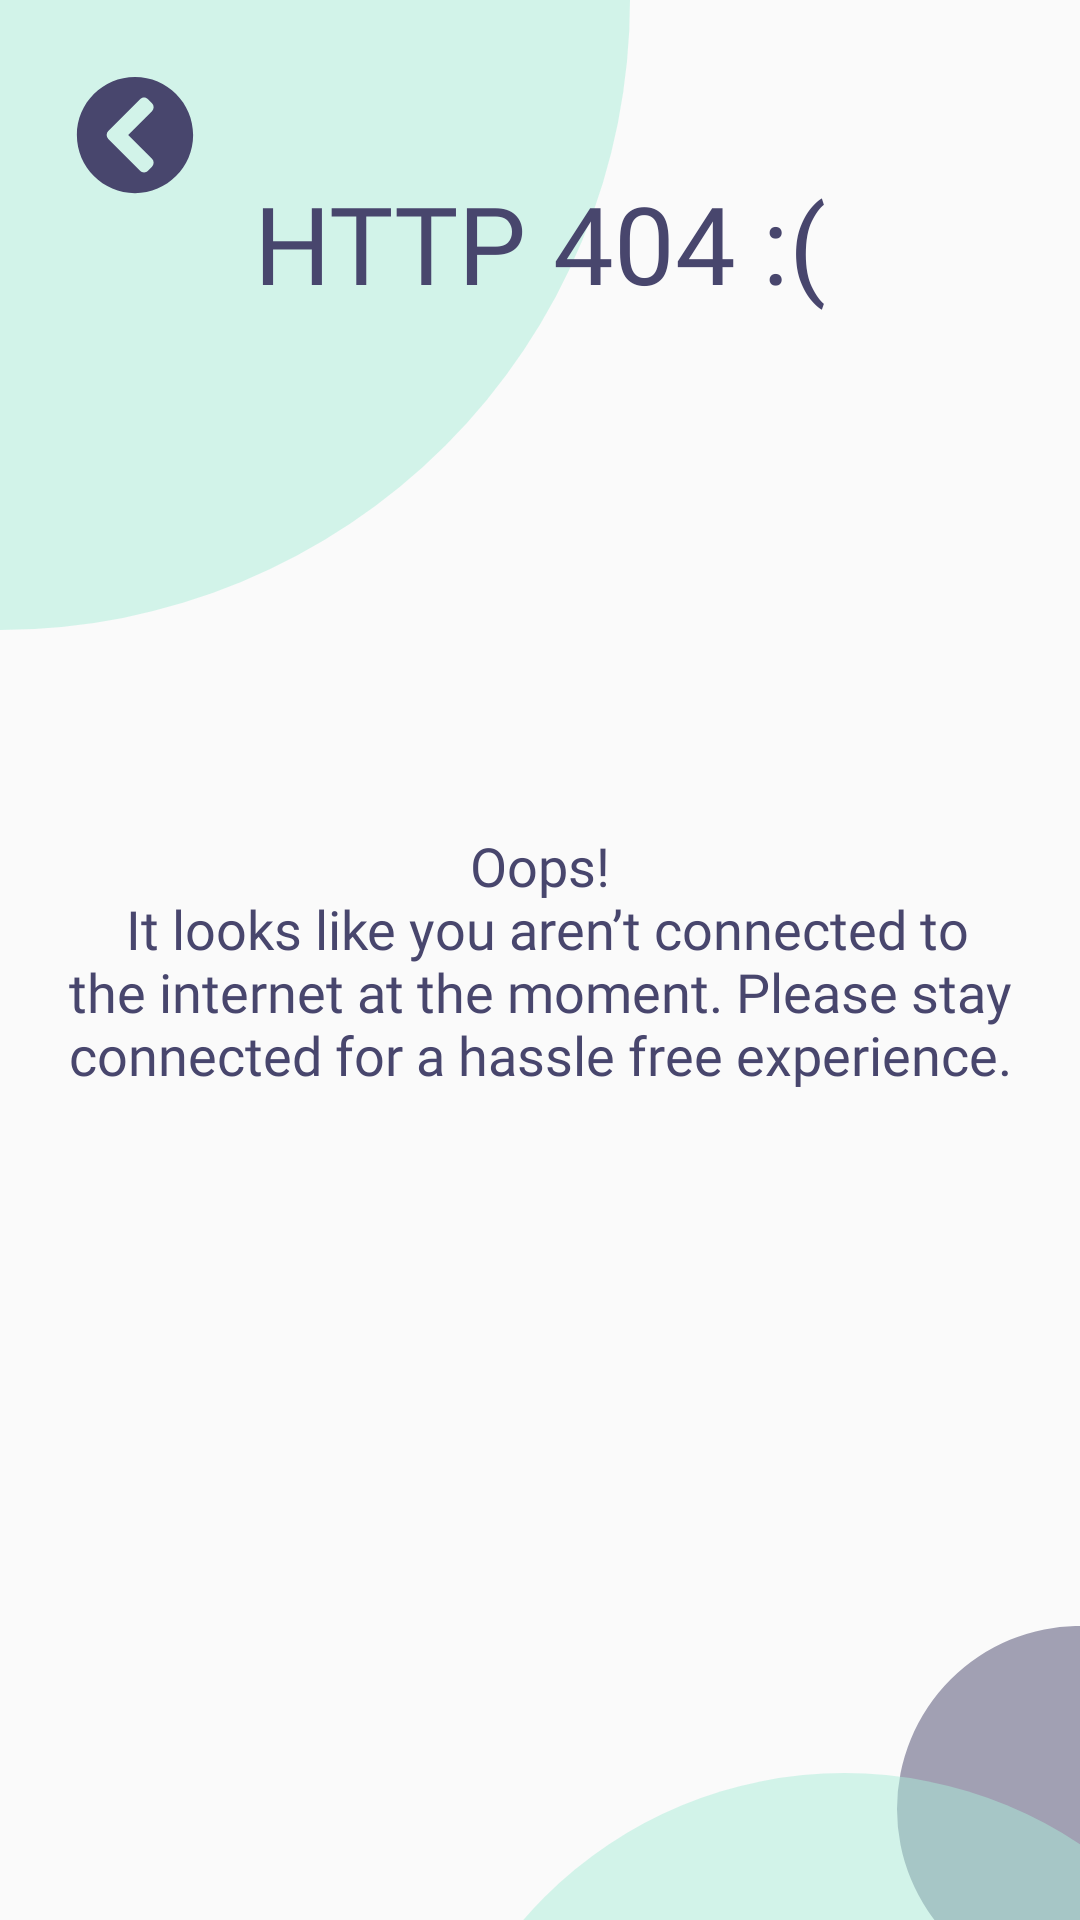

Where to tap for icons on this 1080×1920 app screen, as (x,y):
back arrow: (135,135)
